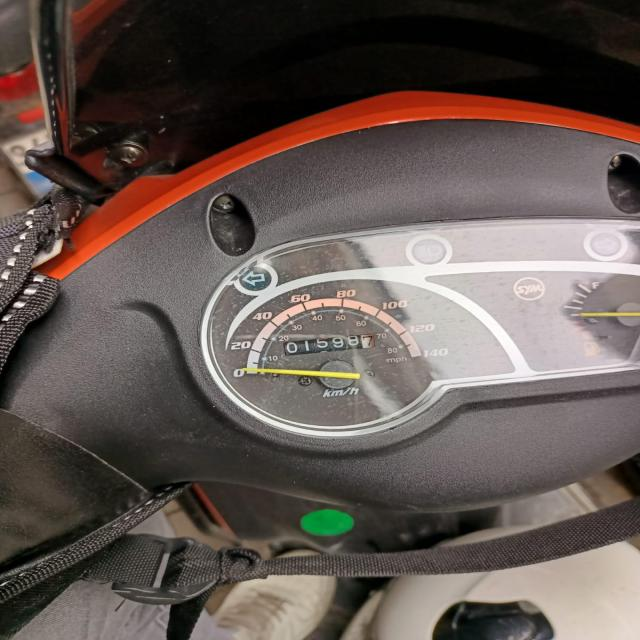odometer: (278, 332, 376, 357)
